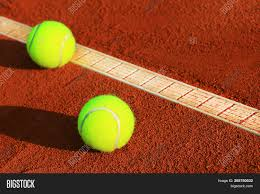tennis_ball: (76, 92, 135, 153), (24, 19, 76, 68)
